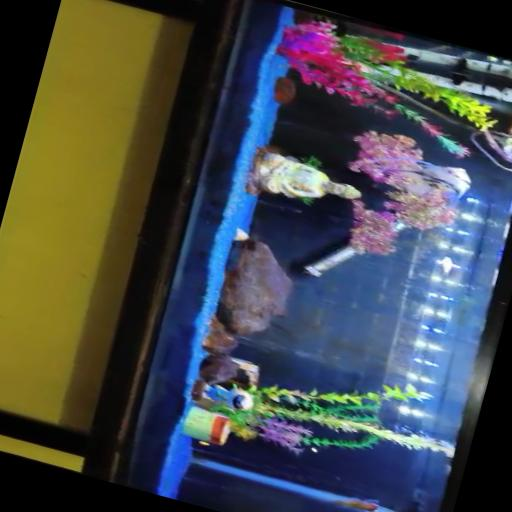Fish: (381, 157, 470, 202), (398, 160, 470, 202), (355, 23, 403, 39), (334, 498, 379, 511), (450, 57, 470, 84), (398, 498, 421, 511), (198, 440, 209, 445)
